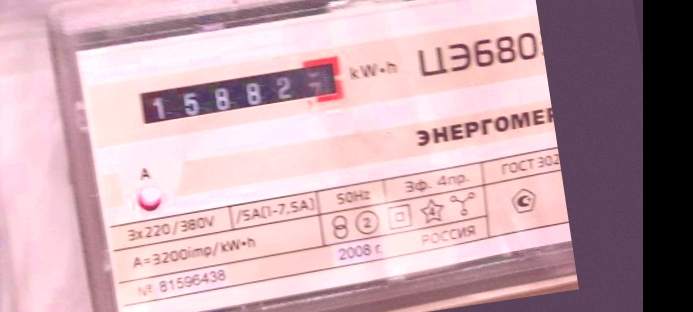1: (150, 94, 168, 121)
2: (274, 72, 294, 100)
5: (181, 89, 200, 116)
7: (307, 78, 323, 96)
8: (212, 84, 232, 111), (243, 78, 262, 105)
screen: (124, 46, 356, 139)
